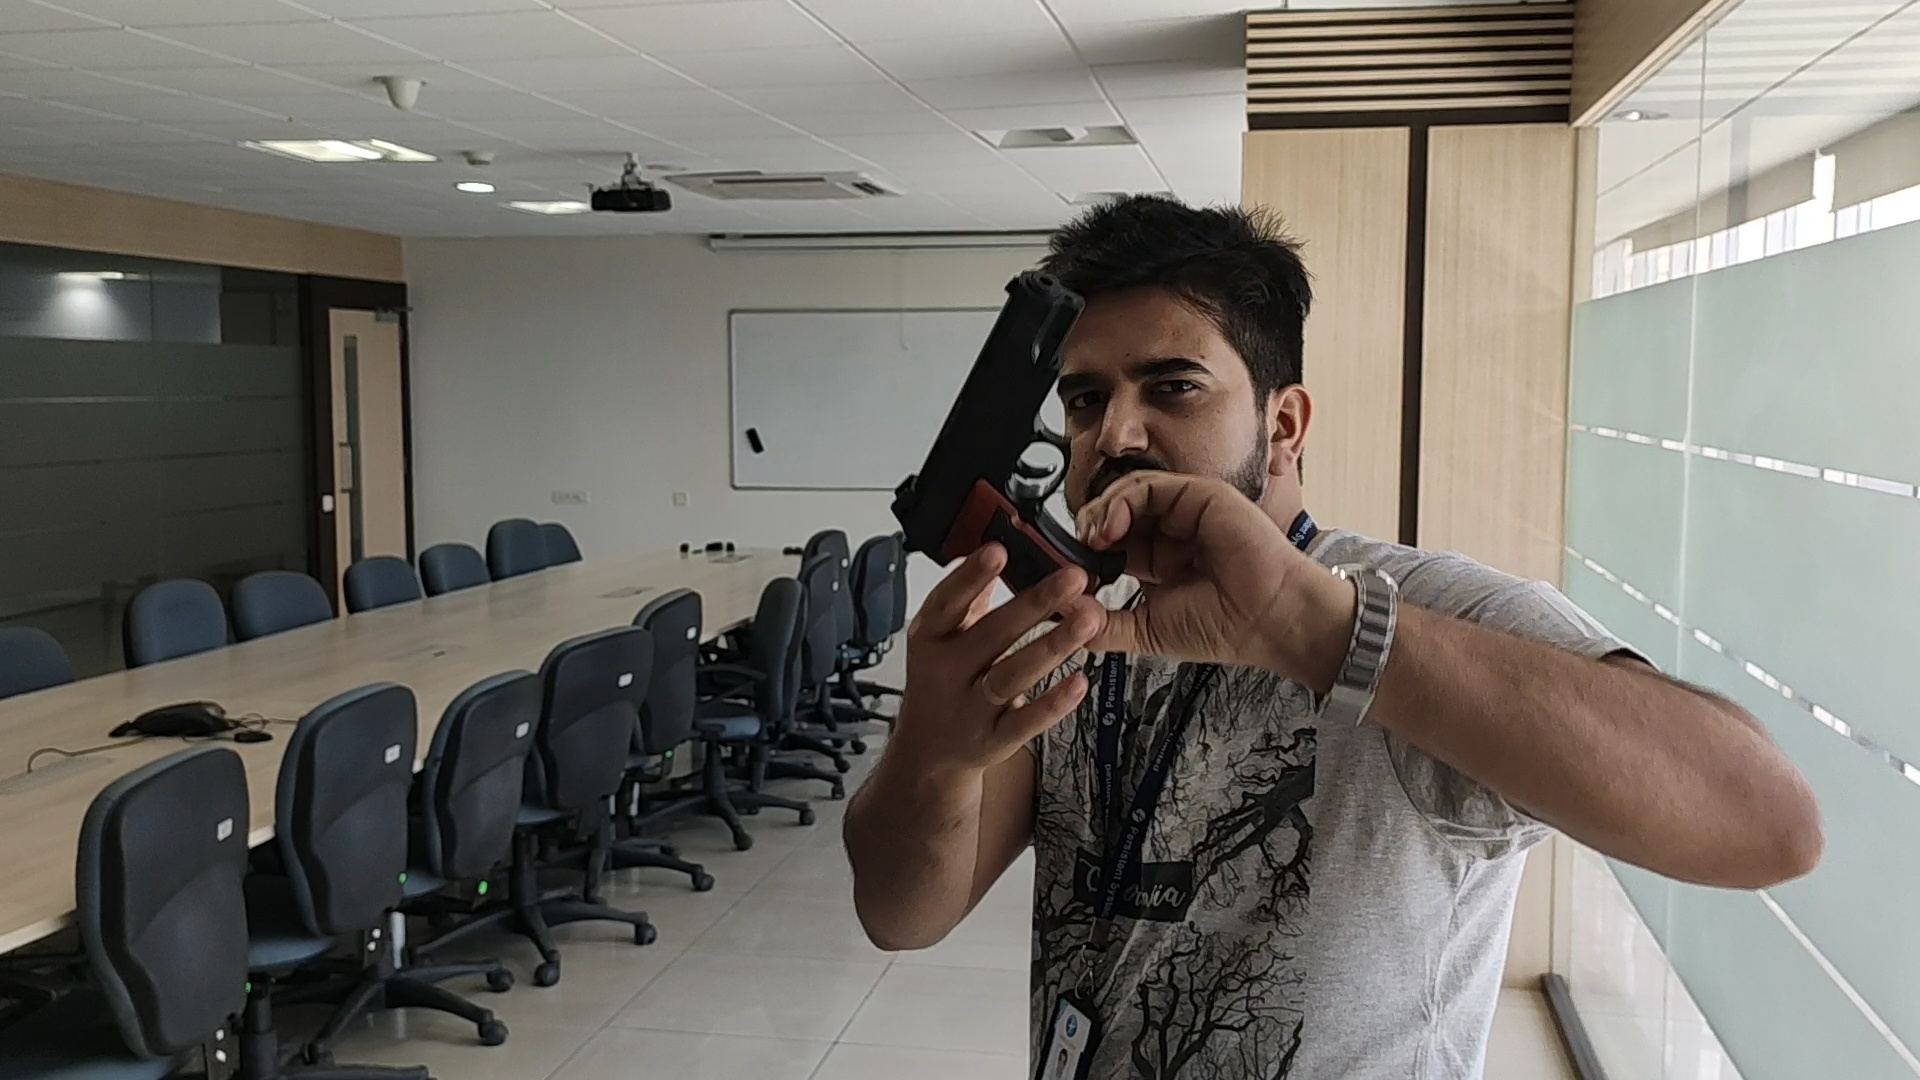gun: (890, 268, 1075, 545)
